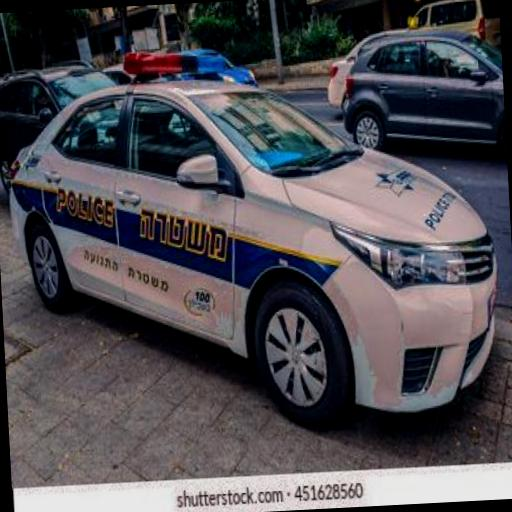Ambulance: (4, 34, 506, 424)
